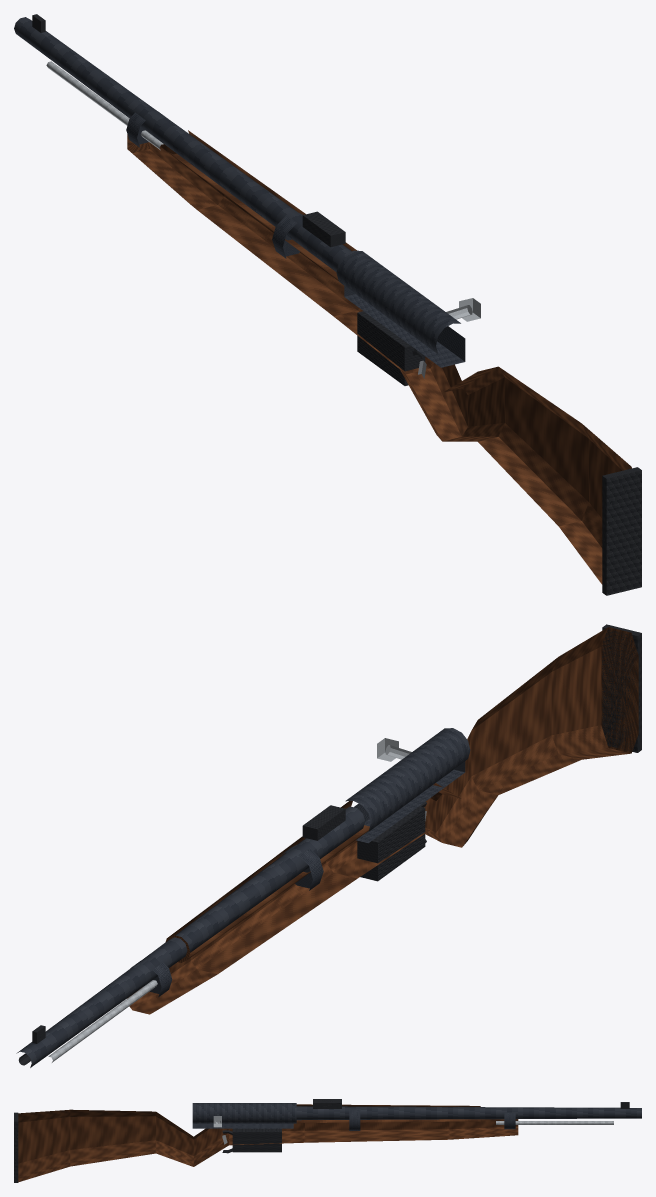
Rendered from carcano_m91.glb.
The picture shows the model from 3 angles, top to bottom: view 1: azimuth 30°, elevation 25°; view 2: azimuth 150°, elevation 25°; view 3: azimuth 270°, elevation 25°; orthographic projection. The views are drawn at different scales.
Parts seen in each view (by area): view 1: WeaponMesh; view 2: WeaponMesh; view 3: WeaponMesh.
Boxes of the visible parts, x1,y1,x2,y2 form: WeaponMesh: (14,14,641,595); WeaponMesh: (16,624,641,1067); WeaponMesh: (14,1099,641,1182).
Size of the model in its own units: 0.0735 by 0.154 by 1.12.
4 materials, 4 textured.
